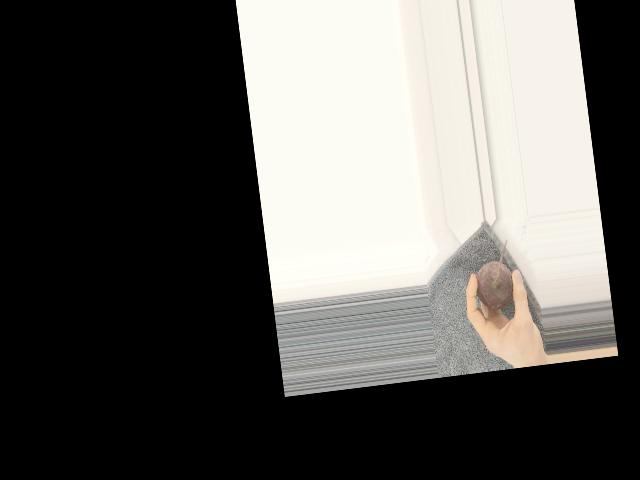beet: (471, 239, 516, 311)
